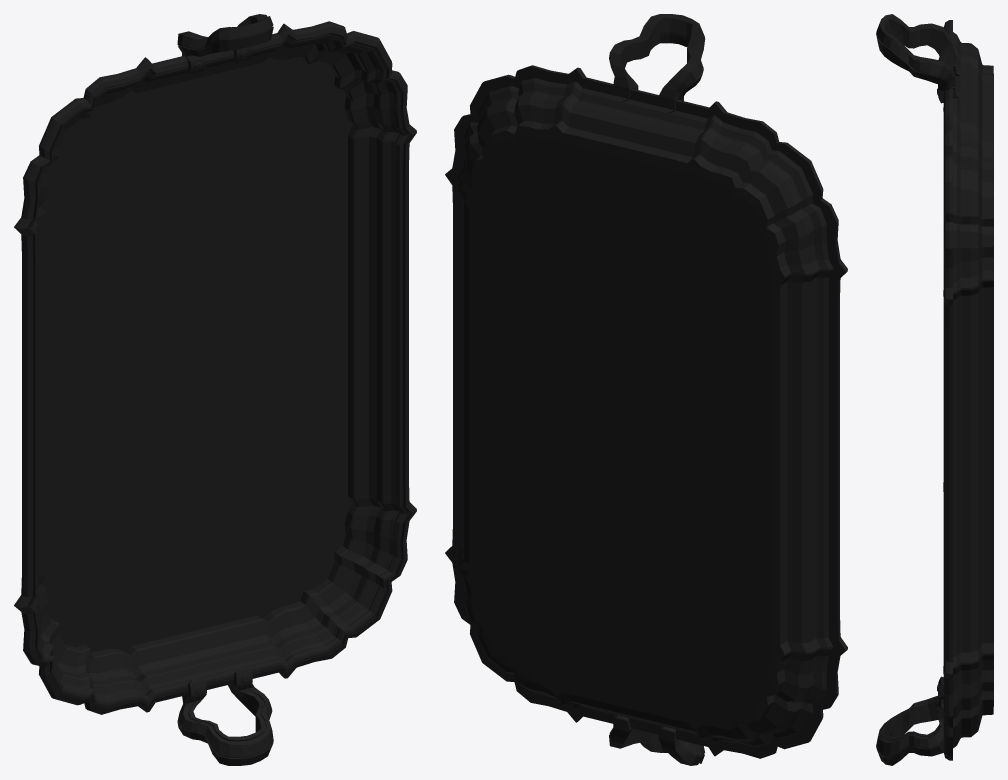
Rendered from Antique_Serving_Silver_Tray_convert.obj.
3 renders of one model, left to right at view 1: azimuth 30°, elevation 25°; view 2: azimuth 150°, elevation 25°; view 3: azimuth 270°, elevation 25°, orthographic.
Parts seen in each view (by area): view 1: Tray_001, Arm_002, Arm_001; view 2: Tray_001, Arm_001, Arm_002; view 3: Tray_001, Arm_001, Arm_002.
Boxes of the visible parts, x1=… form: Tray_001: x1=14, y1=21, x2=416, y2=714; Arm_002: x1=177, y1=666, x2=273, y2=765; Arm_001: x1=177, y1=14, x2=273, y2=74; Tray_001: x1=445, y1=65, x2=847, y2=758; Arm_001: x1=609, y1=14, x2=705, y2=113; Arm_002: x1=609, y1=715, x2=704, y2=765; Tray_001: x1=943, y1=20, x2=993, y2=760; Arm_001: x1=876, y1=14, x2=960, y2=103; Arm_002: x1=876, y1=676, x2=943, y2=765.
Size of the model in its own units: 45.01 by 79.46 by 11.59.
1 material, 1 textured.
